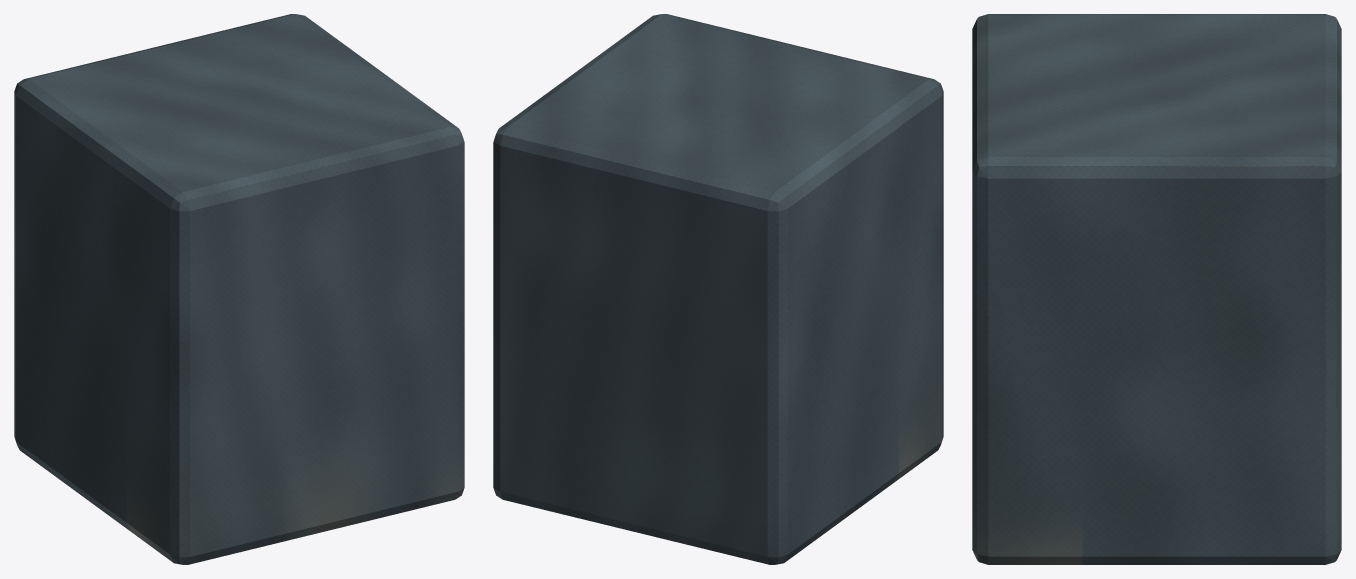
File: RightUpperLeg.fbx
The picture shows the model from 3 angles, left to right: view 1: azimuth 30°, elevation 25°; view 2: azimuth 150°, elevation 25°; view 3: azimuth 270°, elevation 25°; orthographic projection. The views are drawn at different scales.
Parts seen in each view (by area): view 1: RightUpperLeg; view 2: RightUpperLeg; view 3: RightUpperLeg.
Part boxes in pixels (x1=…): RightUpperLeg: x1=14, y1=14, x2=464, y2=564; RightUpperLeg: x1=493, y1=14, x2=943, y2=564; RightUpperLeg: x1=972, y1=14, x2=1341, y2=564.
Bounding box in the file's own units: 1 × 1.22 × 1.
Materials: 1 (1 with a texture image).
